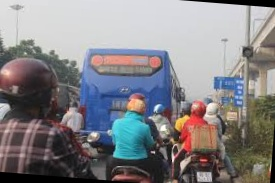Bien-so: (206, 161, 221, 173)
